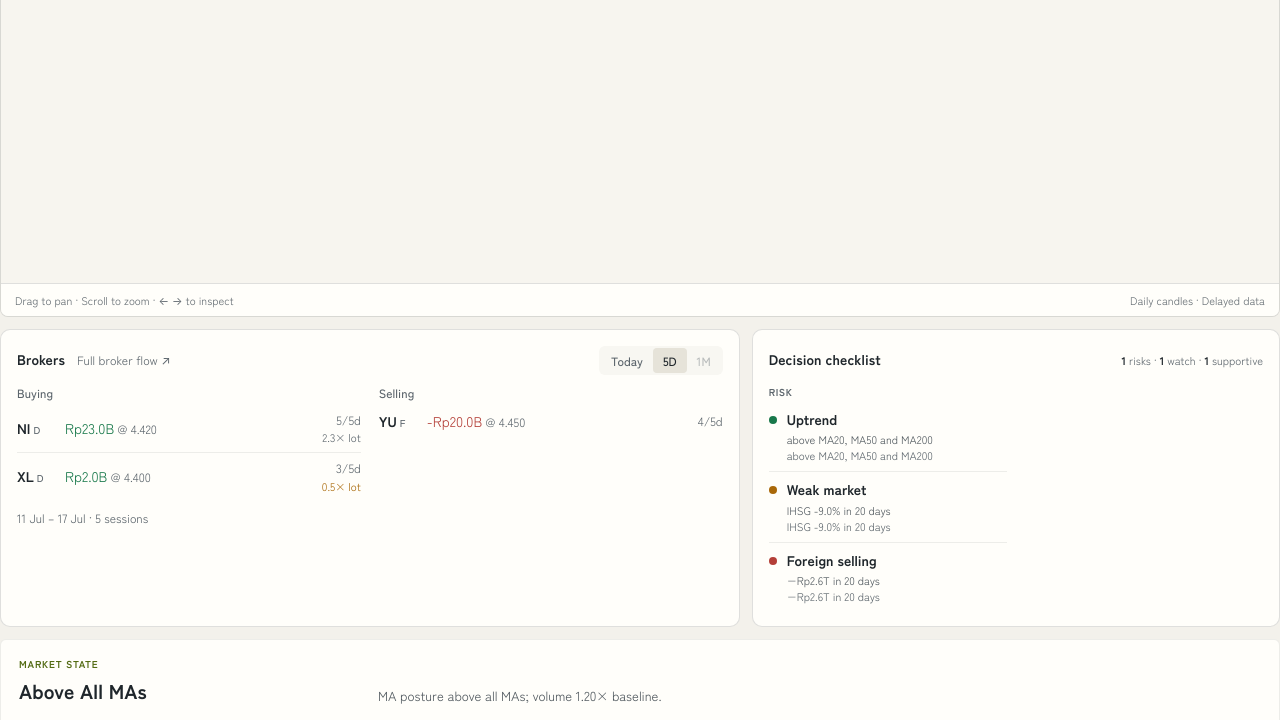
Test case: Workbench › switches broker windows, skips missing ones, and links to the full broker flow
The image size is (1280, 720).
(page scrolled)
Expected: the text "NI" is shown, [17,418,30,438]
Expected: the text "11 Jul – 17 Jul · 5 sessions" is shown, [17,509,148,526]
Step 1. Click the button "Today" → (627, 360), box [601,348,653,373]
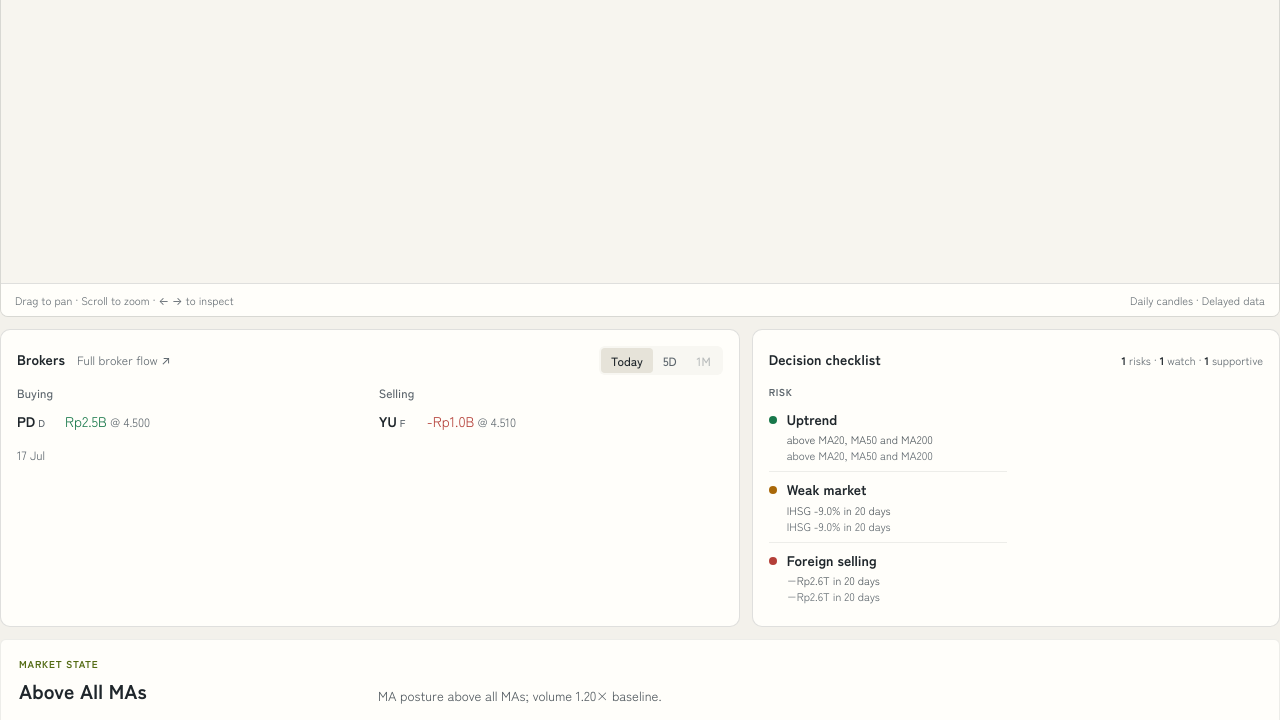
Now the text "PD" is shown, box [17,411,35,431]
